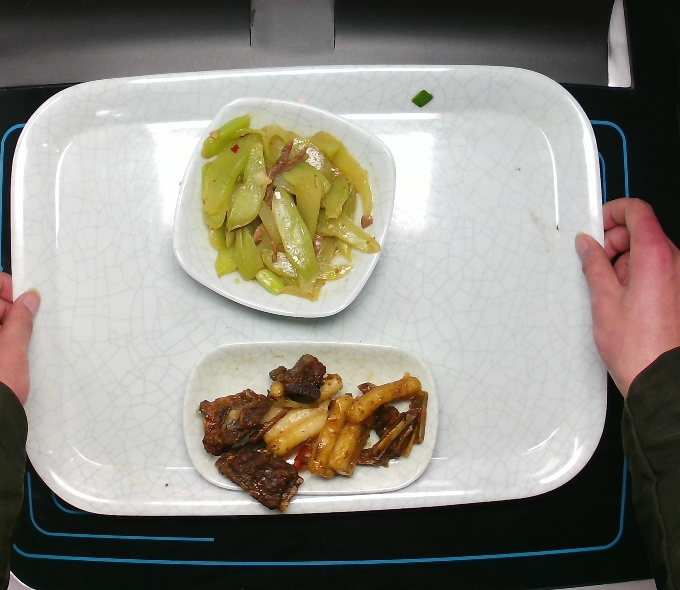wcq-NianGaoZaiPai: (192, 348, 445, 522)
wcq-WoSun: (193, 100, 401, 307)
